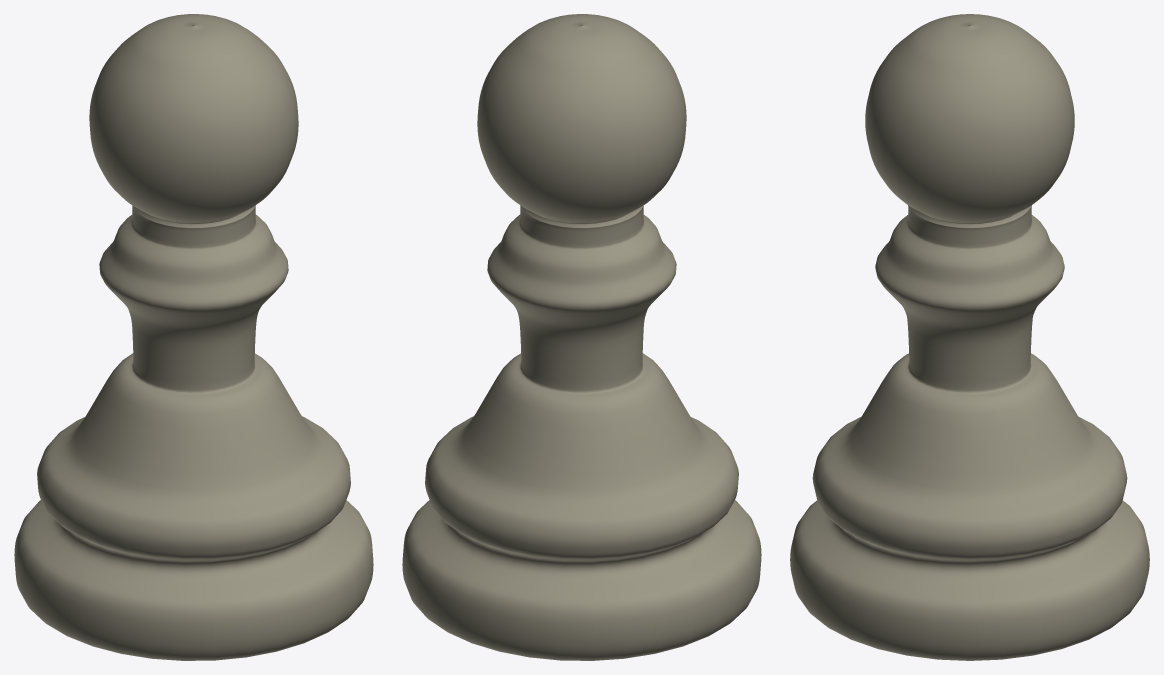
3 renders of one model, left to right at view 1: azimuth 30°, elevation 25°; view 2: azimuth 150°, elevation 25°; view 3: azimuth 270°, elevation 25°, orthographic.
Parts seen in each view (by area): view 1: White chess side.010_15; view 2: White chess side.010_15; view 3: White chess side.010_15.
Boxes of the visible parts, x1,y1,x2,y2 form: White chess side.010_15: [14, 14, 373, 660]; White chess side.010_15: [402, 14, 761, 660]; White chess side.010_15: [790, 14, 1149, 660].
Size of the model in its own units: 1.29 by 2.26 by 1.29.
